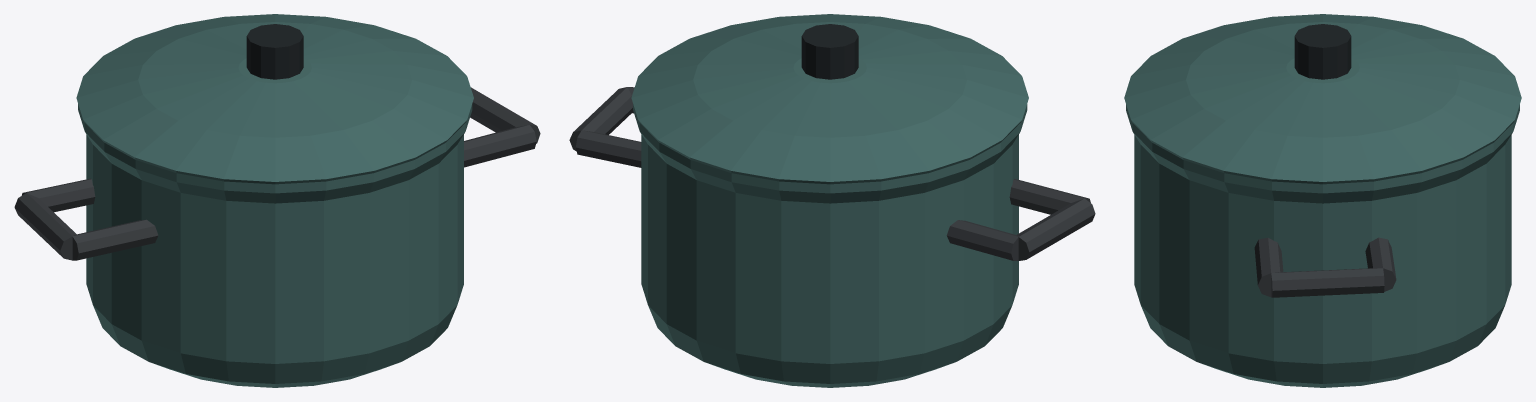
Rendered from G-03_stockpot.glb.
3 views of the same model, side by side, from view 1: azimuth 30°, elevation 25°; view 2: azimuth 150°, elevation 25°; view 3: azimuth 270°, elevation 25° (orthographic).
Parts seen in each view (by area): view 1: G-03_stockpot; view 2: G-03_stockpot; view 3: G-03_stockpot.
Boxes of the visible parts, x1,y1,x2,y2 form: G-03_stockpot: (14, 14, 540, 387); G-03_stockpot: (569, 14, 1095, 387); G-03_stockpot: (1124, 14, 1521, 387).
Size of the model in its own units: 0.3319 by 0.191 by 0.238.
